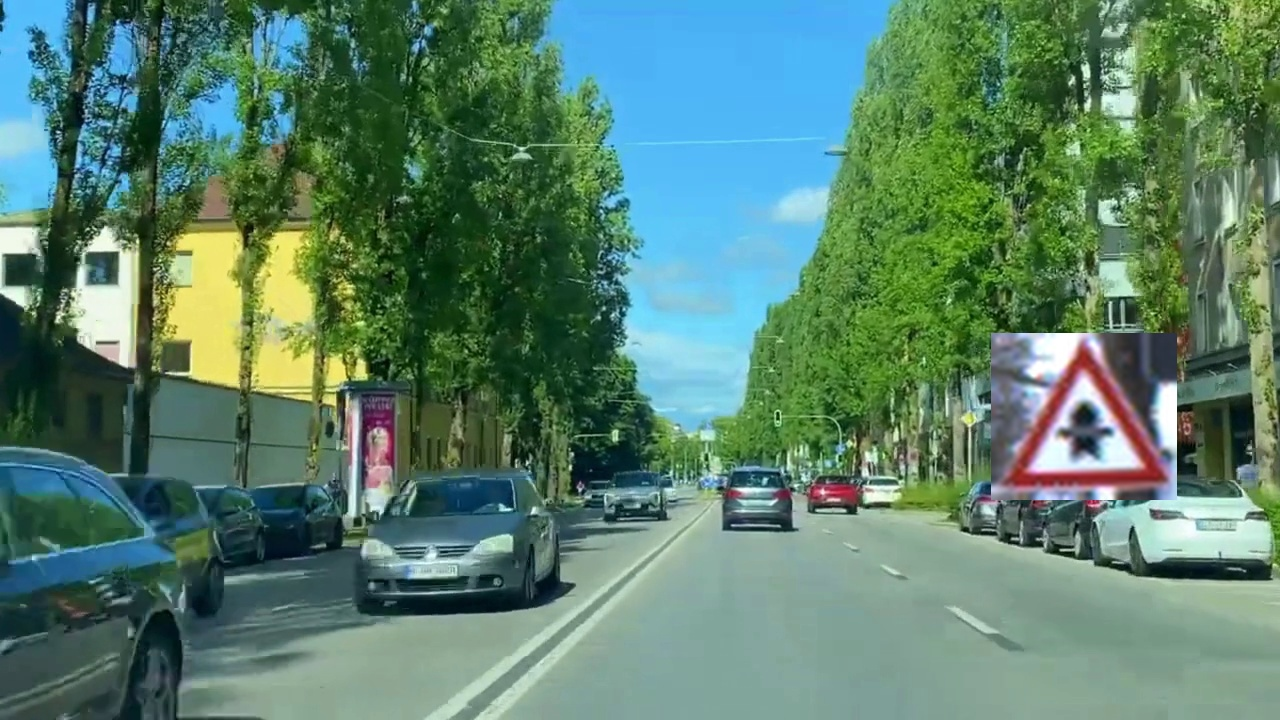Right-of-way: (991, 333, 1177, 500)
